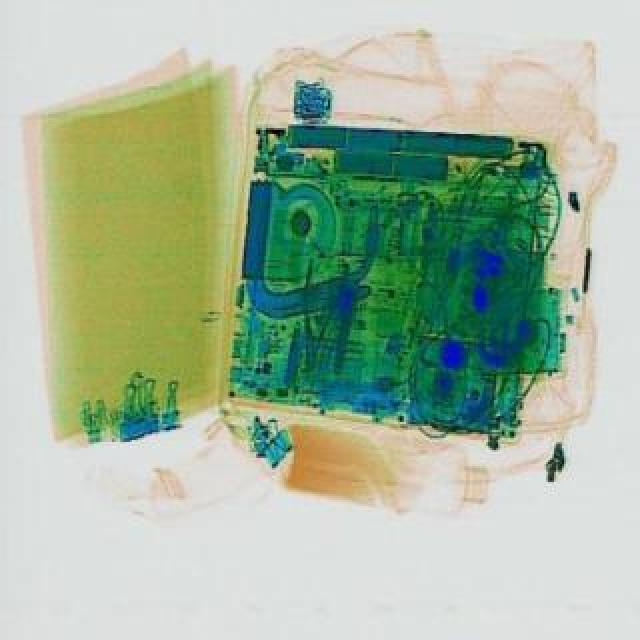wrench: (286, 254, 350, 374)
